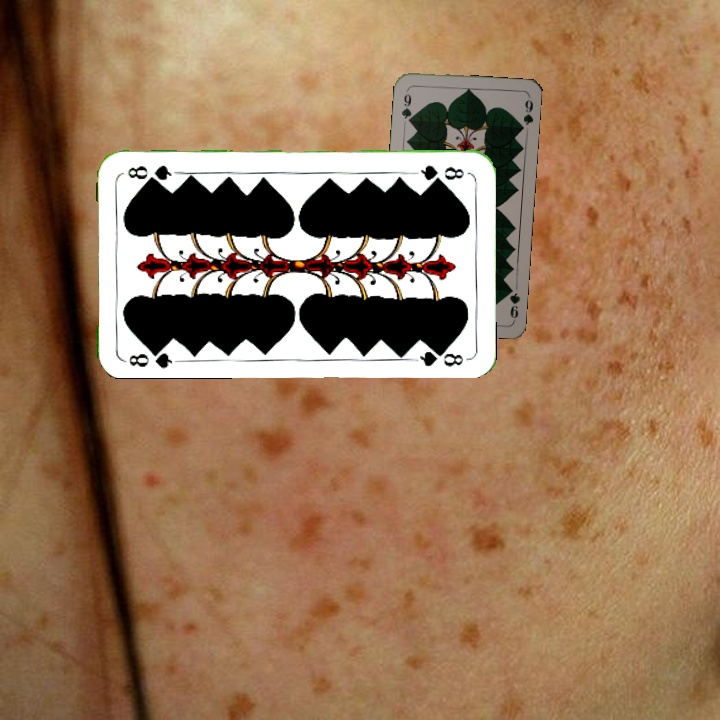G8: (121, 343, 180, 370), (410, 161, 466, 183)
G9: (504, 282, 522, 323), (397, 86, 414, 126)
